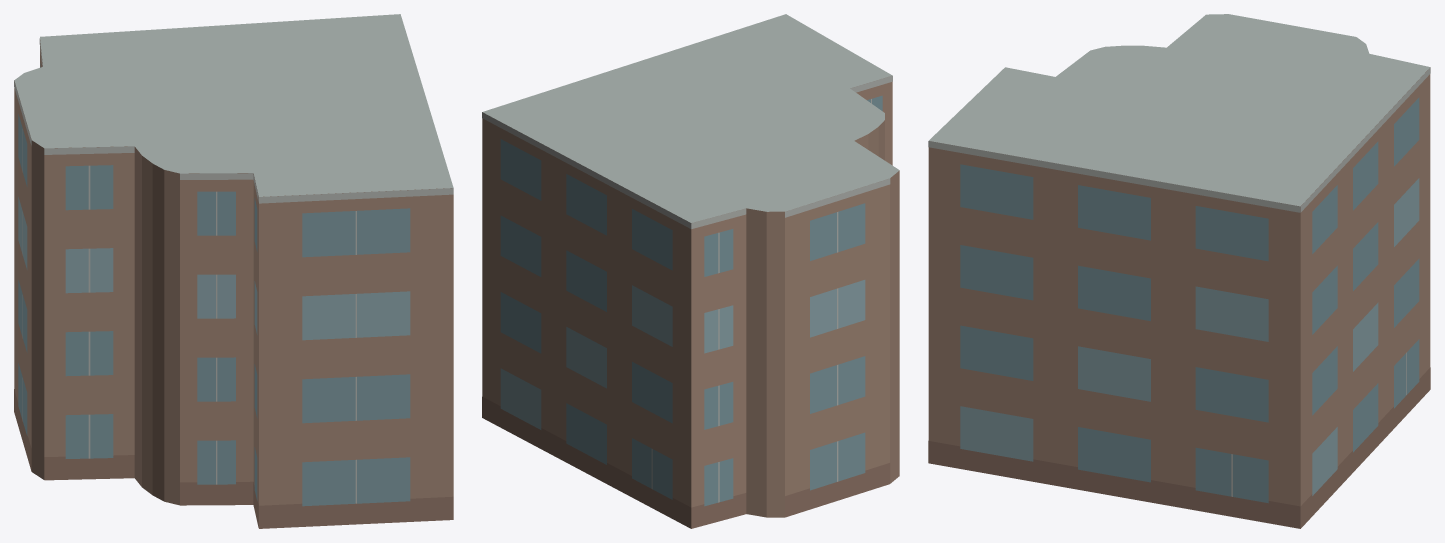
File: survey-upis-32587088.glb
The picture shows the model from 3 angles, left to right: view 1: azimuth 30°, elevation 25°; view 2: azimuth 150°, elevation 25°; view 3: azimuth 270°, elevation 25°; orthographic projection. The views are drawn at different scales.
Parts seen in each view (by area): view 1: survey-upis-32587088.tmp; view 2: survey-upis-32587088.tmp; view 3: survey-upis-32587088.tmp.
Part boxes in pixels (x1=…): survey-upis-32587088.tmp: x1=14, y1=14, x2=453, y2=528; survey-upis-32587088.tmp: x1=482, y1=14, x2=899, y2=528; survey-upis-32587088.tmp: x1=928, y1=14, x2=1430, y2=528.
Bounding box in the file's own units: 15.62 × 12.2 × 17.22.
